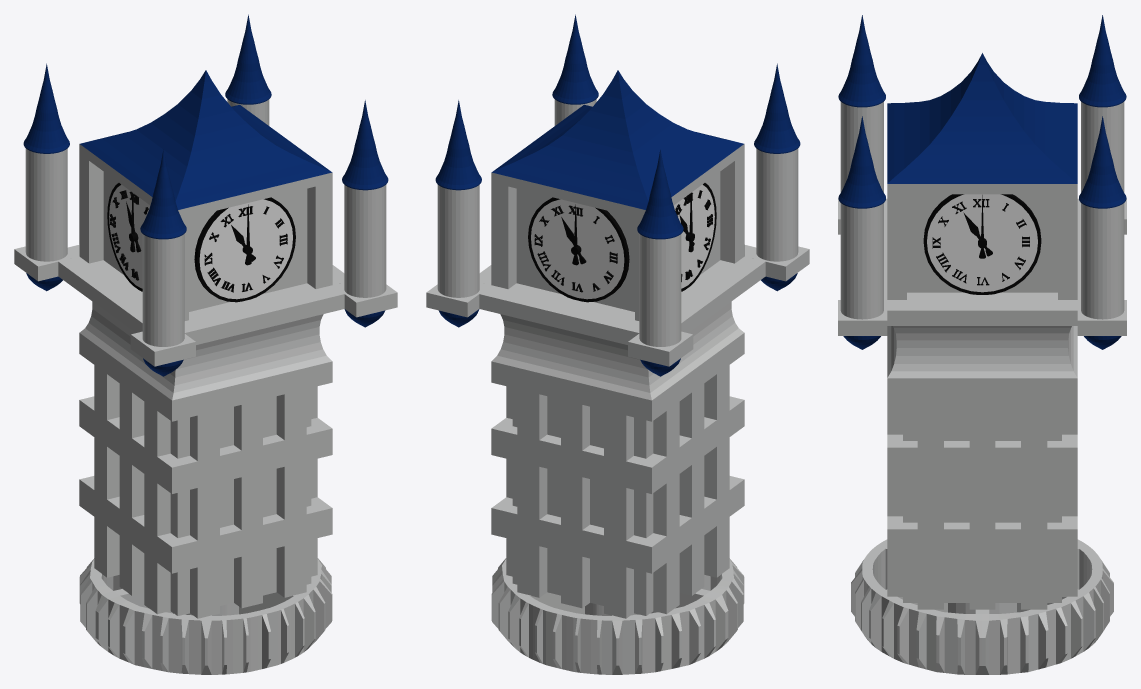
The model's file is SteelRookPiece.fbx.
The picture shows the model from 3 angles, left to right: view 1: azimuth 30°, elevation 25°; view 2: azimuth 150°, elevation 25°; view 3: azimuth 270°, elevation 25°; orthographic projection. The views are drawn at different scales.
Parts seen in each view (by area): view 1: SteelRook; view 2: SteelRook; view 3: SteelRook.
Part boxes in pixels (x1,y1,x2,y2): SteelRook: (14,14,397,674); SteelRook: (426,14,809,674); SteelRook: (838,15,1126,674).
Bounding box in the file's own units: 96 × 210 × 96.
